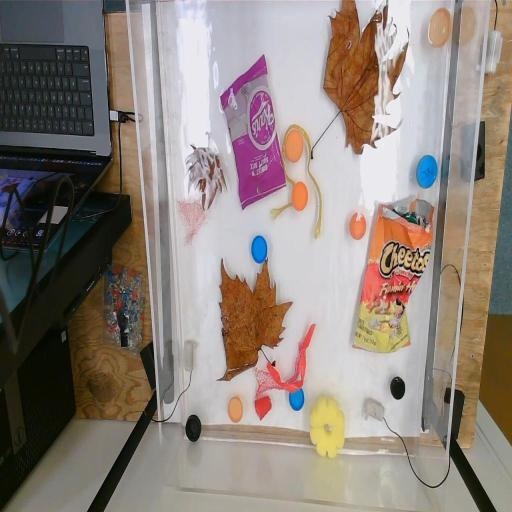Bottle Cap: (428, 8, 452, 48), (416, 154, 438, 189), (284, 130, 304, 162), (292, 180, 309, 212), (250, 234, 268, 264), (350, 212, 366, 240), (186, 413, 202, 441), (228, 396, 244, 423), (290, 385, 304, 411), (390, 376, 405, 398), (404, 213, 420, 226)
Cone Cap: (254, 395, 272, 420)
Leaf: (310, 0, 409, 160), (218, 255, 292, 374), (186, 131, 225, 209)
Netting: (255, 336, 306, 396), (178, 198, 206, 244)
Plastic Bag: (352, 196, 435, 356), (220, 53, 286, 207)
Plastic Strand: (272, 122, 324, 238), (266, 322, 316, 392)
Sponge: (310, 394, 346, 460)
